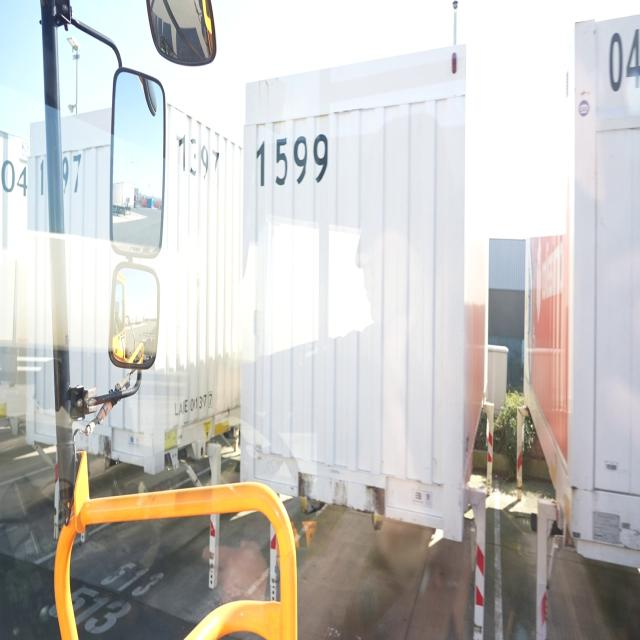Code: (249, 128, 334, 196), (173, 118, 227, 196)
